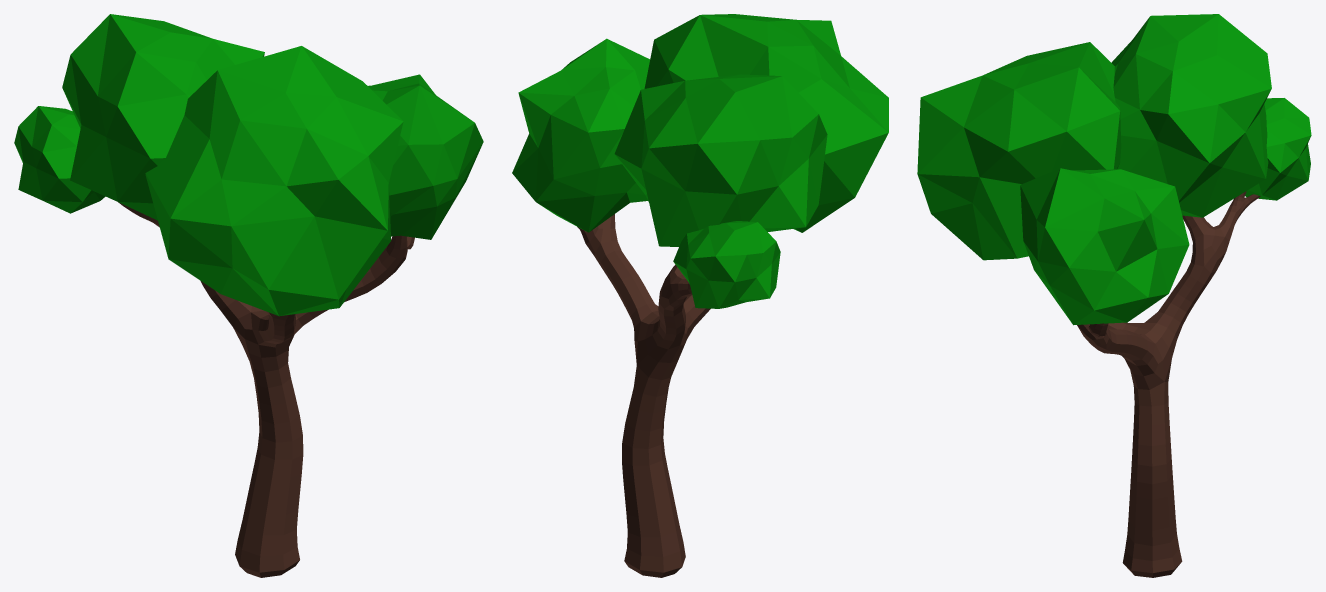
File: TREE2.fbx
3 views of the same model, side by side, from view 1: azimuth 30°, elevation 25°; view 2: azimuth 150°, elevation 25°; view 3: azimuth 270°, elevation 25° (orthographic). The views are drawn at different scales.
Parts seen in each view (by area): view 1: Icosphere.002, Icosphere, Plane, Icosphere.003, Icosphere.001; view 2: Icosphere, Icosphere.002, Icosphere.003, Plane, Icosphere.001; view 3: Icosphere.002, Icosphere, Icosphere.003, Plane, Icosphere.001.
Part boxes in pixels (x1=…): Icosphere.002: x1=145, y1=46, x2=403, y2=316; Icosphere: x1=62, y1=14, x2=264, y2=220; Plane: x1=118, y1=202, x2=414, y2=577; Icosphere.003: x1=368, y1=74, x2=483, y2=239; Icosphere.001: x1=14, y1=106, x2=105, y2=213; Icosphere: x1=614, y1=74, x2=827, y2=246; Icosphere.002: x1=644, y1=14, x2=888, y2=232; Icosphere.003: x1=512, y1=38, x2=650, y2=232; Plane: x1=577, y1=214, x2=710, y2=577; Icosphere.001: x1=673, y1=221, x2=780, y2=308; Icosphere.002: x1=917, y1=42, x2=1121, y2=260; Icosphere: x1=1111, y1=14, x2=1271, y2=217; Icosphere.003: x1=1020, y1=168, x2=1189, y2=325; Plane: x1=1077, y1=191, x2=1260, y2=577; Icosphere.001: x1=1245, y1=98, x2=1311, y2=200.
Bounding box in the file's own units: 599 × 899 × 636.
